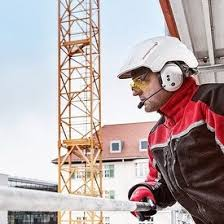Person_wearing_helmet: (115, 31, 202, 86)
